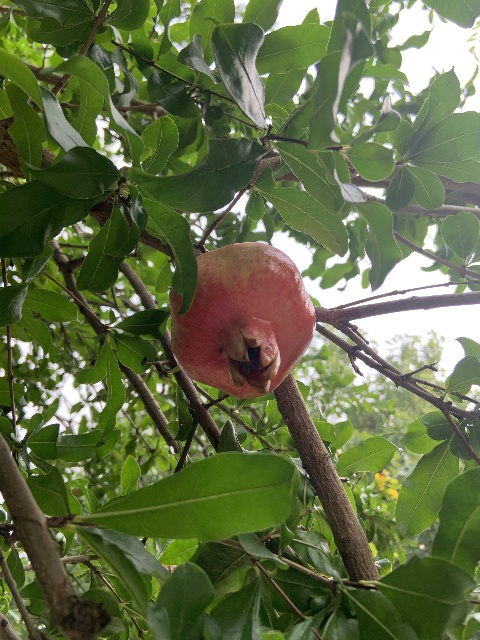ripe: (168, 242, 316, 397)
